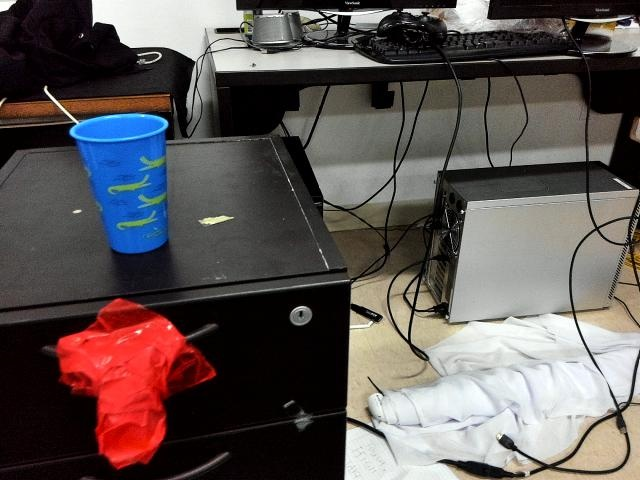water_cup: (68, 112, 174, 255)
